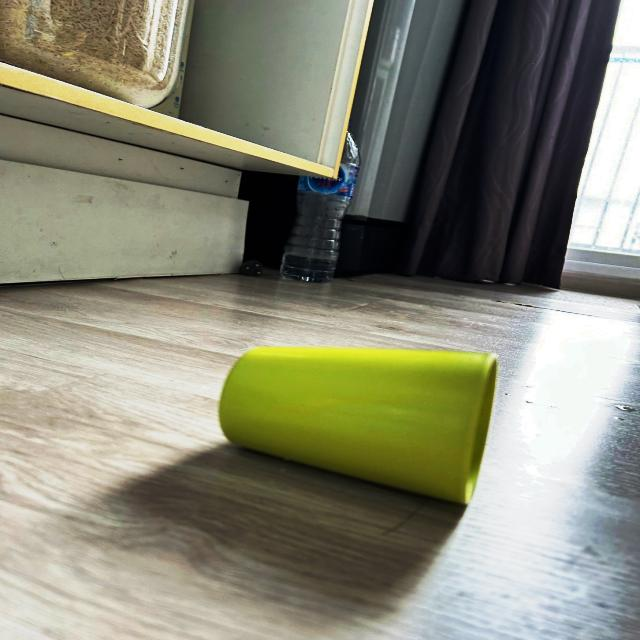WaterGlass: (219, 348, 496, 505)
